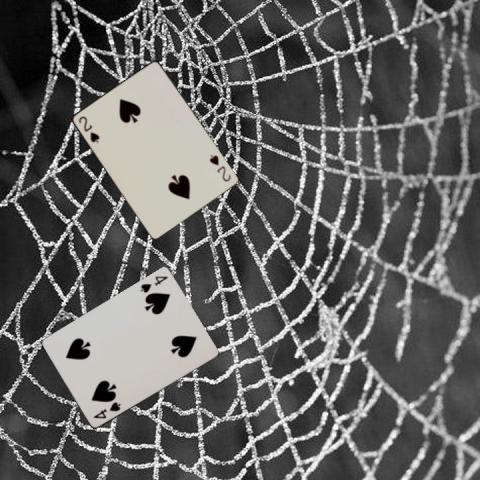2s: (75, 112, 101, 144), (206, 152, 232, 183)
4s: (90, 399, 122, 421), (138, 273, 169, 295)
